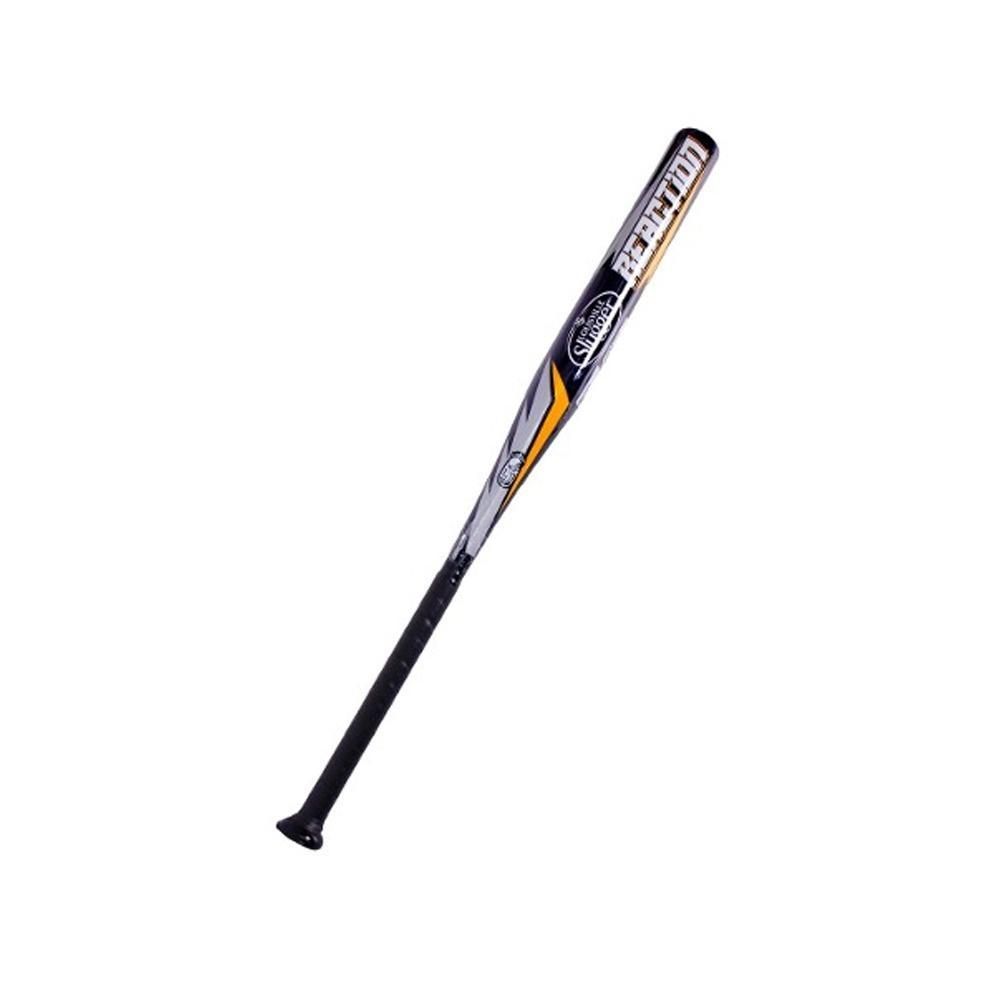Baseball-Bat: (278, 83, 832, 840)
